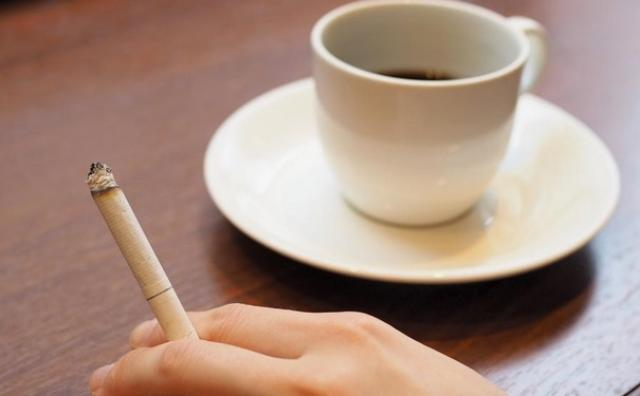Cigarette: (82, 160, 196, 340)
